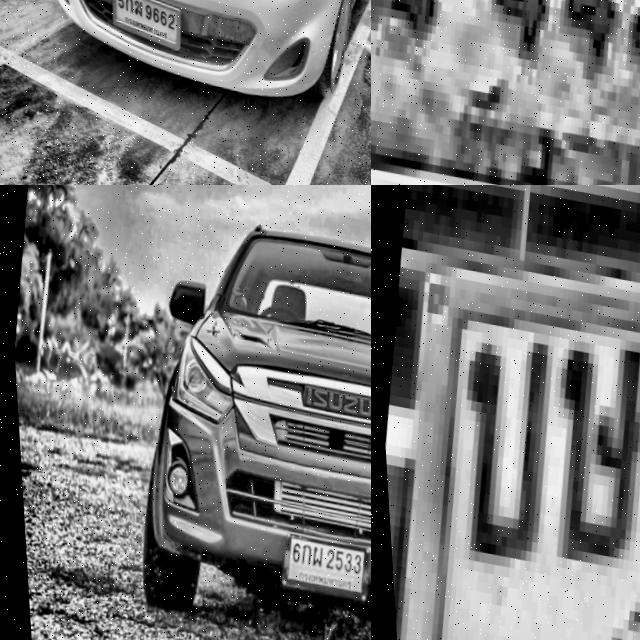license-plate: (371, 185, 640, 640), (371, 0, 640, 185), (270, 520, 371, 604), (98, 0, 185, 53)
